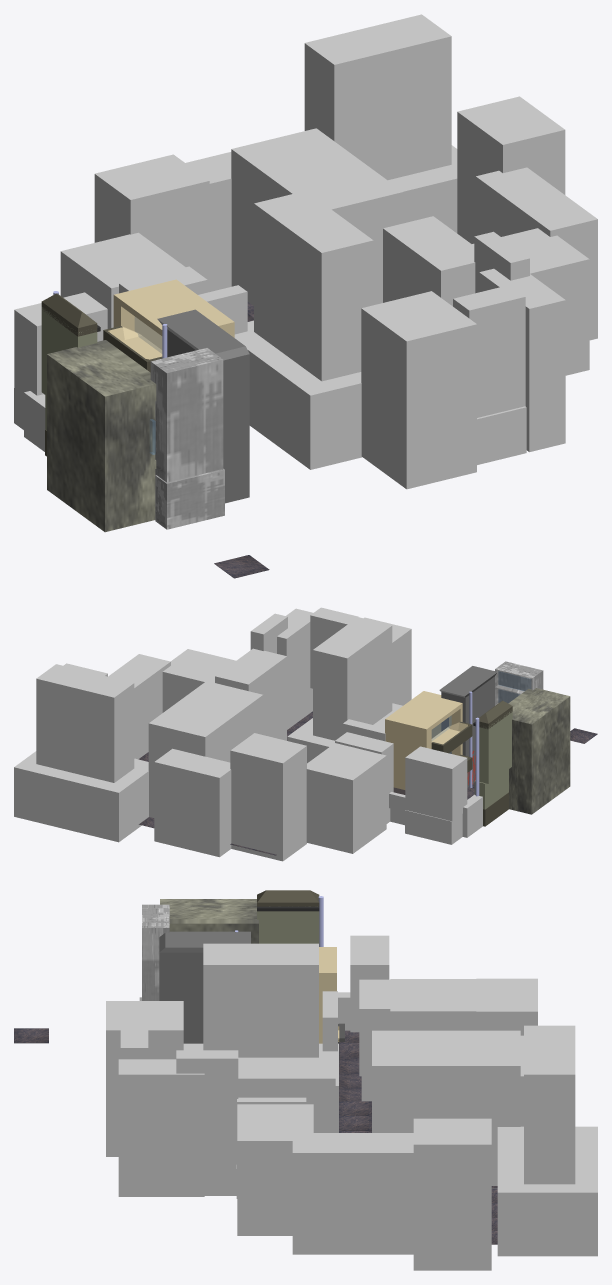
The model's file is mapa2.glb.
3 renders of one model, top to bottom at view 1: azimuth 30°, elevation 25°; view 2: azimuth 150°, elevation 25°; view 3: azimuth 270°, elevation 25°, orthographic. The views are drawn at different scales.
Visible parts, largest first — view 1: Cube.061, Cube.138, Cube.093, predio.001, Cube.064, prediogaragem01, Cube.063, Cube.136, Cube.137, Cube.065, Cube.095, predio (+13 smaller); view 2: Cube.138, Cube.061, Cube.063, Cube.052, Cube.062, Cube.064, predio.001, Cube.054, predio.002, Cube.016, Cube.095, Cube.065 (+12 smaller); view 3: Cube.138, Cube.137, Cube.064, Cube.061, Cube.136, Cube.065, Cube.107, Cube.095, Cube.093, predio, Cube.052, Cube.094 (+13 smaller).
Part boxes in pixels (left/top/right/bottom): Cube.061: left=234, top=191, right=373, bottom=469; Cube.138: left=304, top=14, right=457, bottom=233; Cube.093: left=361, top=291, right=476, bottom=489; predio.001: left=47, top=340, right=156, bottom=532; Cube.064: left=231, top=128, right=403, bottom=305; prediogaragem01: left=150, top=348, right=224, bottom=529; Cube.063: left=94, top=154, right=209, bottom=292; Cube.136: left=457, top=96, right=565, bottom=243; Cube.137: left=475, top=167, right=597, bottom=340; Cube.065: left=479, top=268, right=565, bottom=452; Cube.095: left=383, top=216, right=475, bottom=306; predio: left=157, top=309, right=249, bottom=503; Cube.138: left=14, top=664, right=148, bottom=842; Cube.061: left=287, top=617, right=402, bottom=763; Cube.063: left=230, top=733, right=306, bottom=861; Cube.052: left=306, top=743, right=386, bottom=853; Cube.062: left=154, top=748, right=231, bottom=857; Cube.064: left=148, top=681, right=263, bottom=817; predio.001: left=508, top=688, right=570, bottom=814; Cube.054: left=405, top=746, right=467, bottom=844; predio.002: left=385, top=691, right=472, bottom=794; Cube.016: left=473, top=700, right=512, bottom=826; Cube.095: left=215, top=648, right=286, bottom=740; Cube.065: left=277, top=608, right=312, bottom=729; Cube.138: left=497, top=1025, right=597, bottom=1256; Cube.137: left=292, top=1133, right=413, bottom=1254; Cube.064: left=372, top=1030, right=520, bottom=1188; Cube.061: left=183, top=943, right=338, bottom=1132; Cube.136: left=413, top=1118, right=491, bottom=1270; Cube.065: left=118, top=1059, right=204, bottom=1196; Cube.107: left=237, top=1104, right=313, bottom=1235; Cube.095: left=236, top=1057, right=335, bottom=1164; Cube.093: left=106, top=1001, right=183, bottom=1156; predio: left=159, top=930, right=250, bottom=1043; Cube.052: left=390, top=979, right=476, bottom=1030; Cube.094: left=176, top=1050, right=238, bottom=1140.
Size of the model in its own units: 551 by 190 by 536.
Materials: 125 (107 with a texture image).
